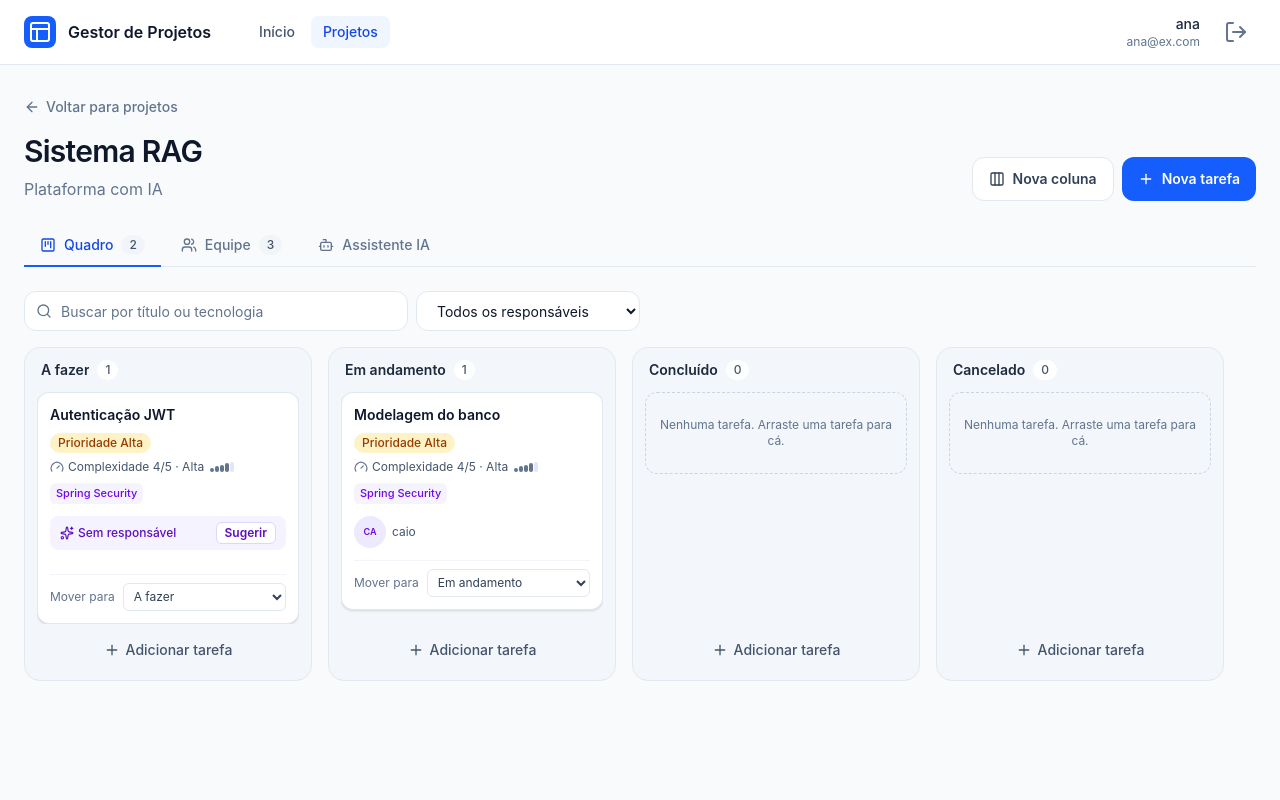
Test: Recomendação de responsáveis › avisa quando o servidor não atribui o responsável escolhido
Click the button named "Sugerir responsável para \"Autenticação JWT\"": (246, 532) [216,522,276,544]
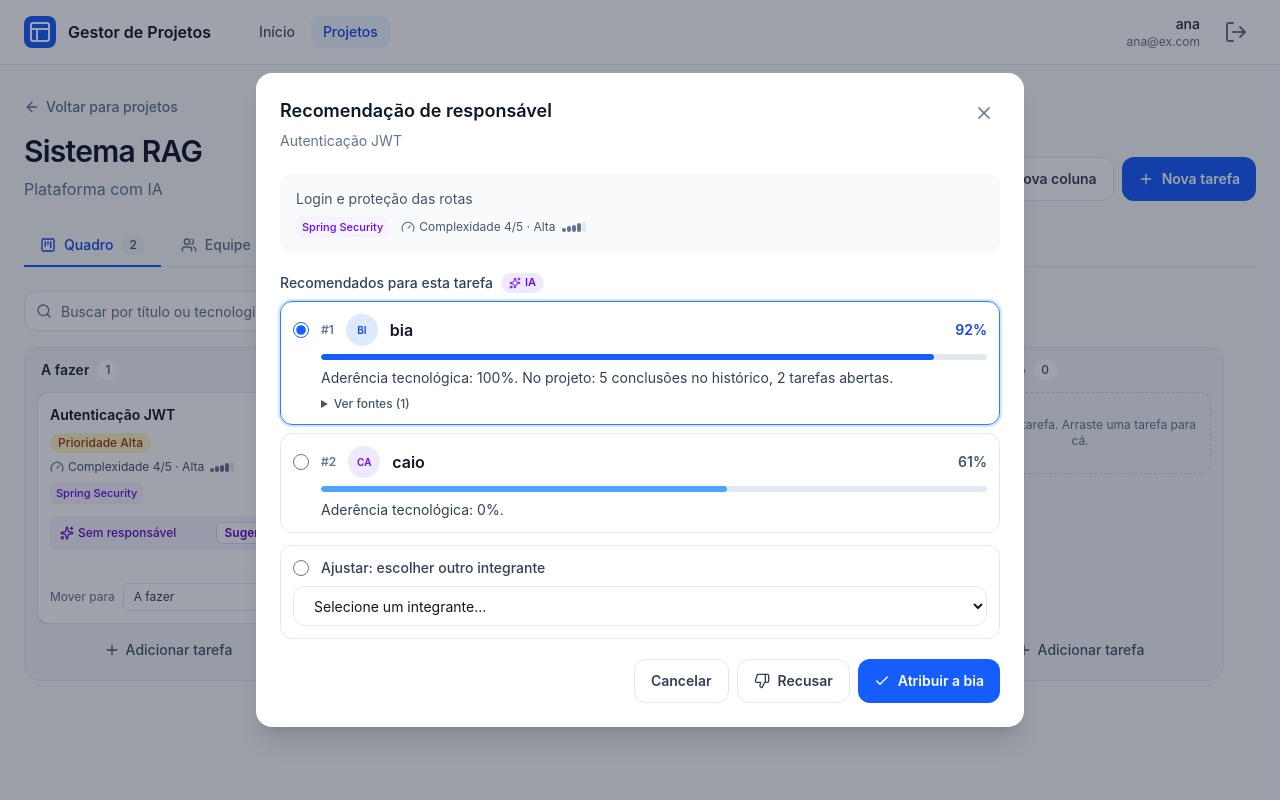
Click the button "Atribuir a bia": (929, 681) [858,659,1000,703]
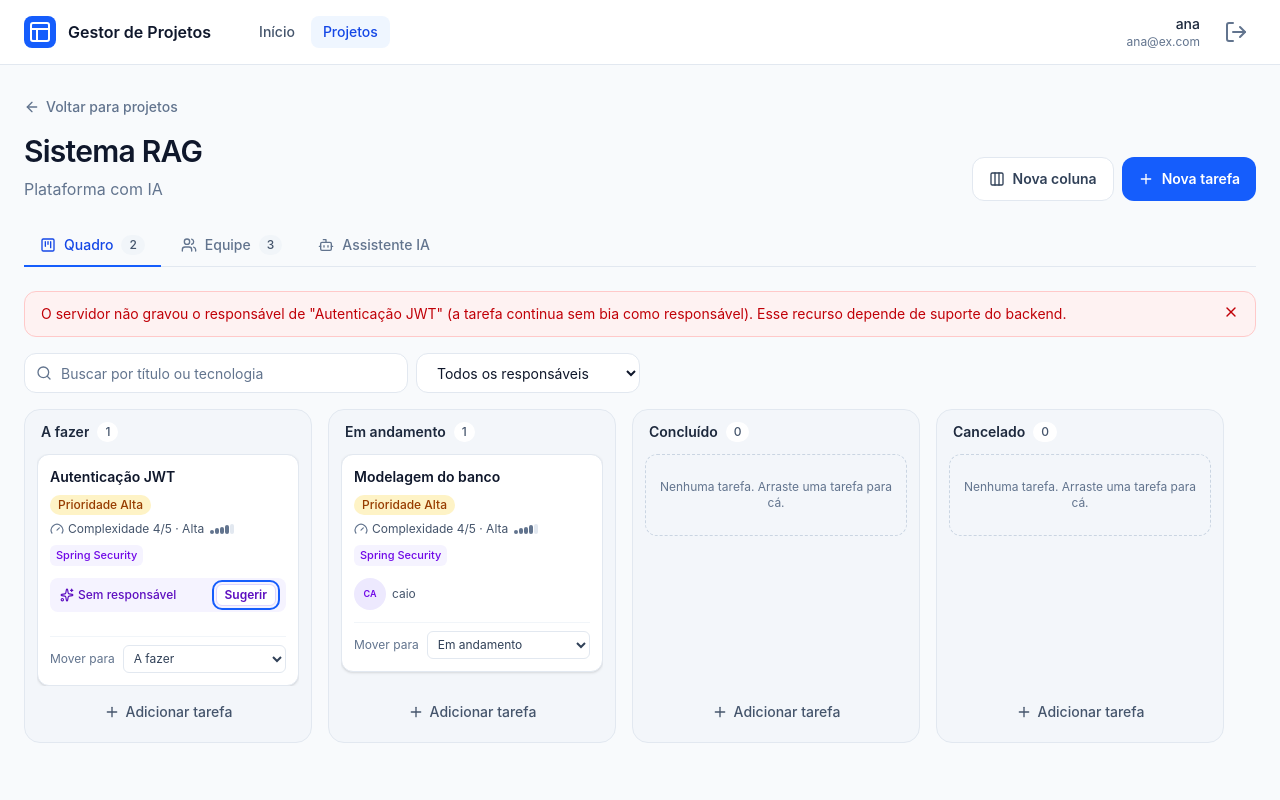
Expected: the message shows "O servidor não gravou o responsável de \"Autenticação JWT\"", [41,305,1066,322]
